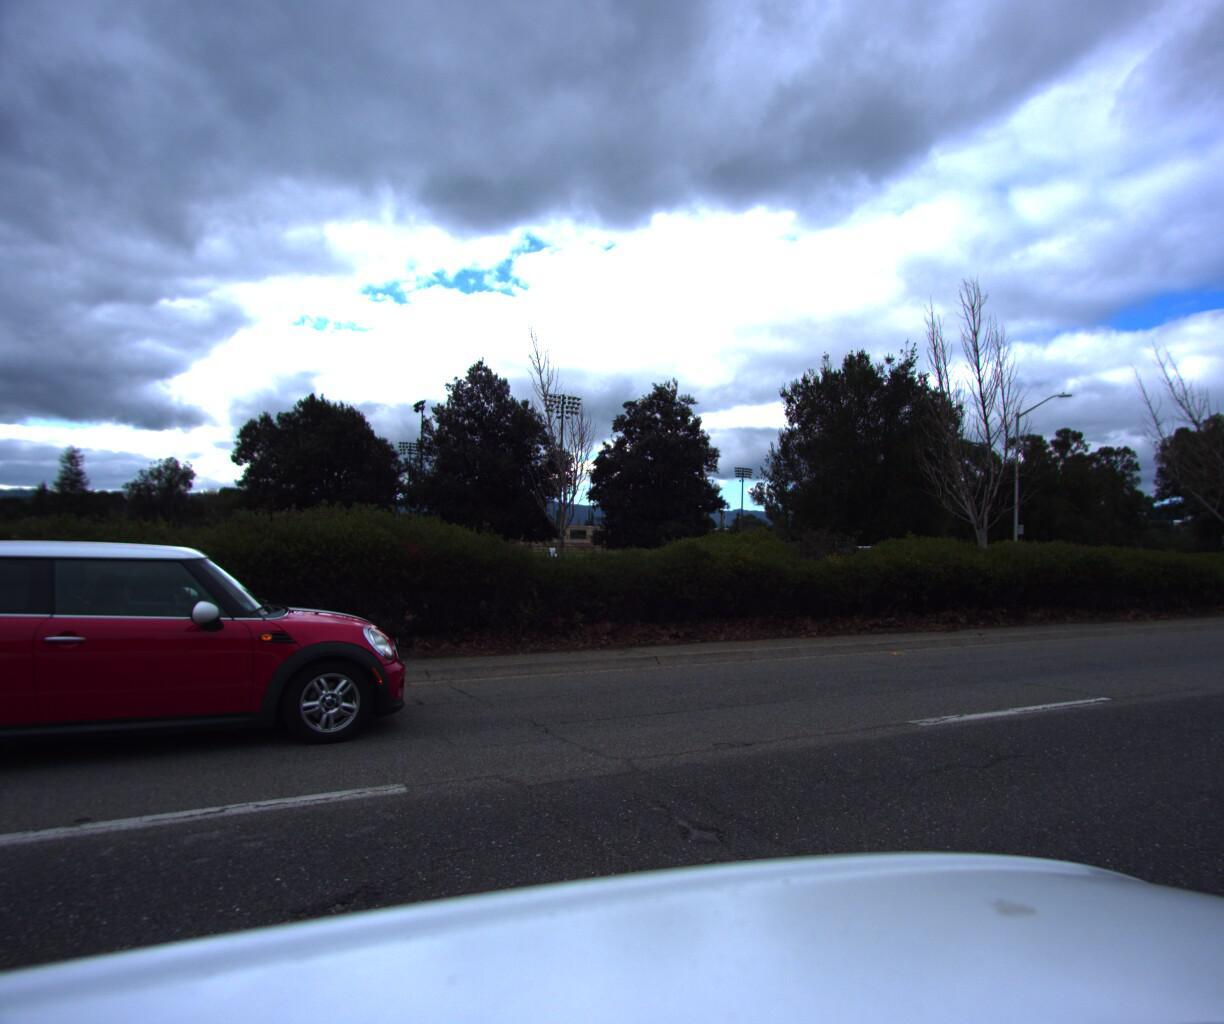car: (0, 531, 440, 788)
